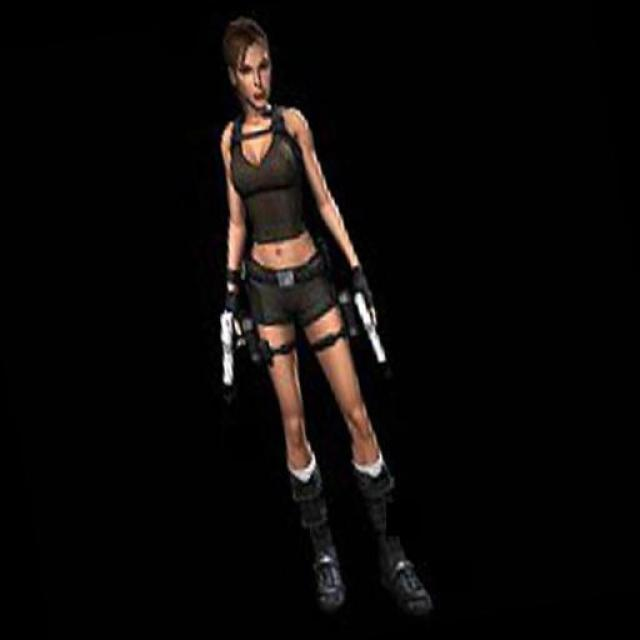gun: (347, 278, 392, 370), (204, 302, 252, 388)
